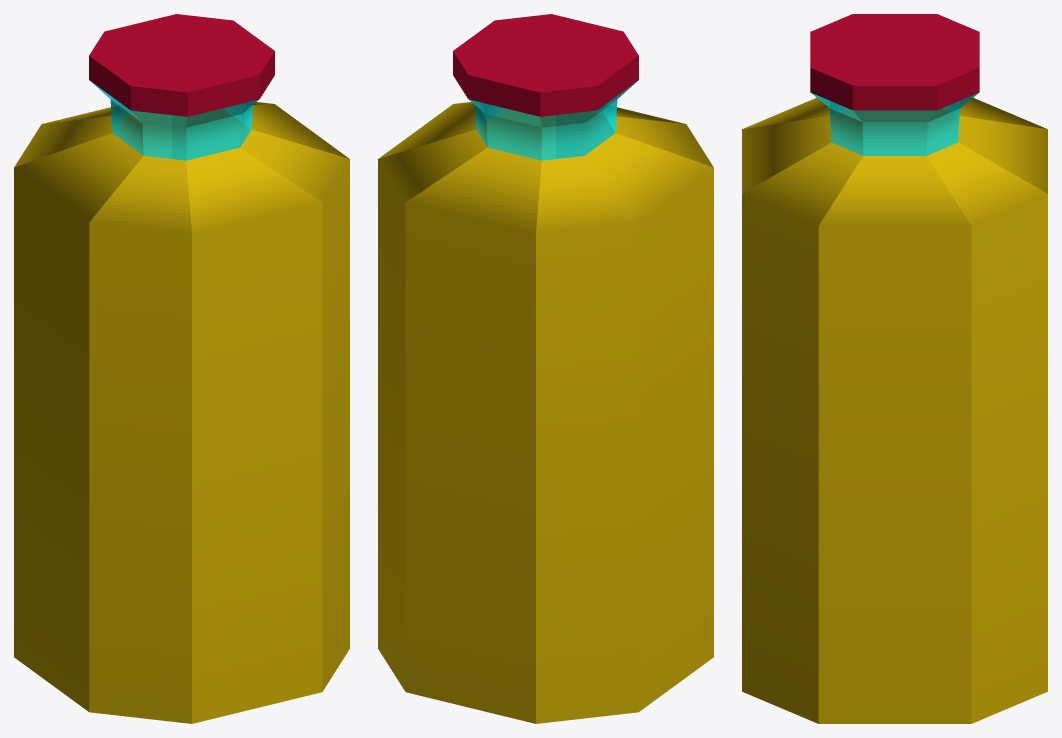
Rendered from Orange_Juice.fbx.
The picture shows the model from 3 angles, left to right: view 1: azimuth 30°, elevation 25°; view 2: azimuth 150°, elevation 25°; view 3: azimuth 270°, elevation 25°; orthographic projection.
Visible parts, largest first — view 1: pCube1; view 2: pCube1; view 3: pCube1.
Part boxes in pixels (x1,y1,x2,y2): pCube1: [14, 14, 349, 723]; pCube1: [378, 14, 713, 723]; pCube1: [742, 14, 1047, 723].
Bounding box in the file's own units: 1 × 2.2 × 1.
